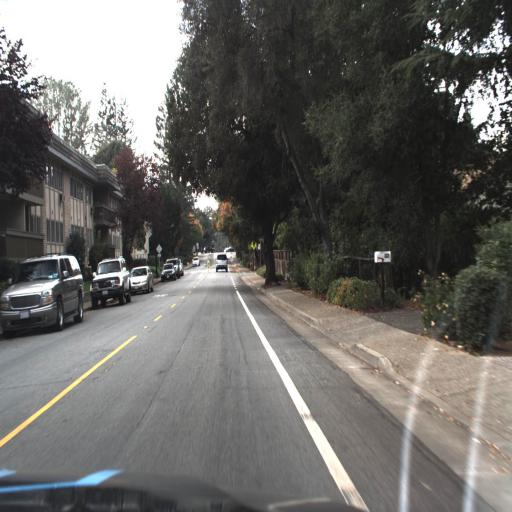car: (0, 252, 83, 335), (88, 254, 132, 310), (130, 264, 154, 292), (214, 247, 230, 274), (162, 262, 177, 280)
